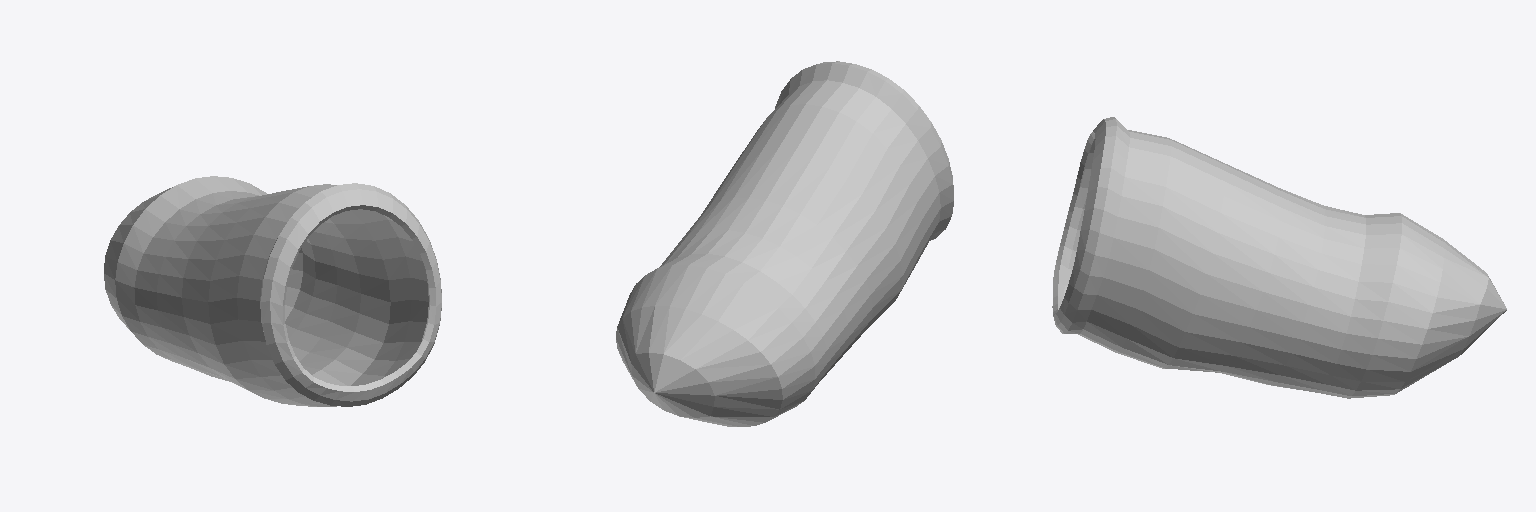
File: Anthro shith out.obj
The picture shows the model from 3 angles: view 1: azimuth 30°, elevation 25°; view 2: azimuth 150°, elevation 25°; view 3: azimuth 270°, elevation 25°; orthographic projection.
Visible parts, largest first — view 1: dick_in_sheath.012_horsecock.016; view 2: dick_in_sheath.012_horsecock.016; view 3: dick_in_sheath.012_horsecock.016.
Part boxes in pixels (left/top/right/bottom): dick_in_sheath.012_horsecock.016: left=104, top=176, right=441, bottom=406; dick_in_sheath.012_horsecock.016: left=616, top=61, right=953, bottom=426; dick_in_sheath.012_horsecock.016: left=1052, top=117, right=1506, bottom=398.
Bounding box in the file's own units: 2.63 × 3.52 × 5.56.